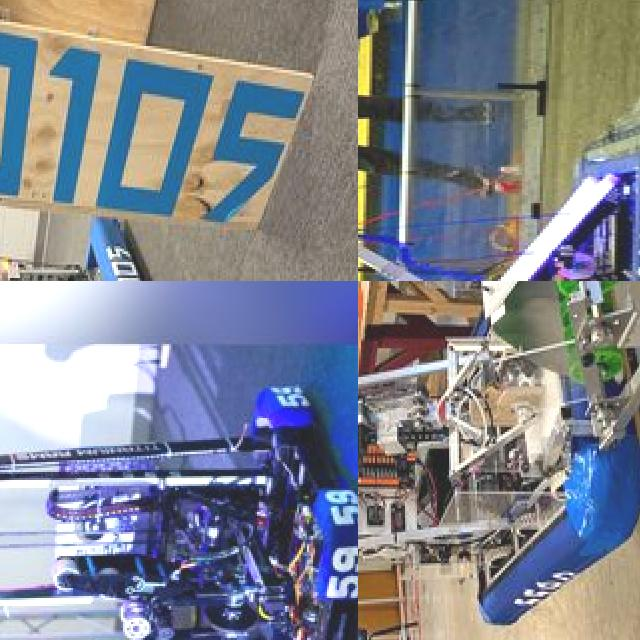FRC-Robots: (0, 367, 358, 640), (358, 281, 640, 622), (358, 0, 640, 281), (358, 0, 640, 32)
